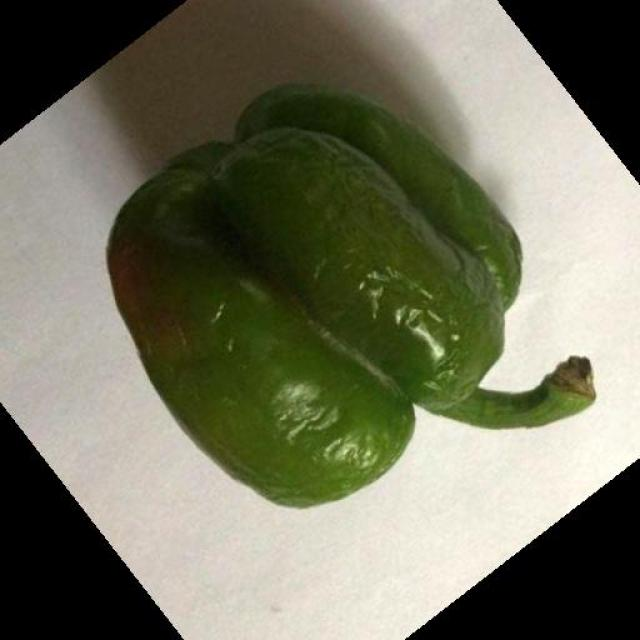Stale_Capsicum: (109, 84, 592, 492)
